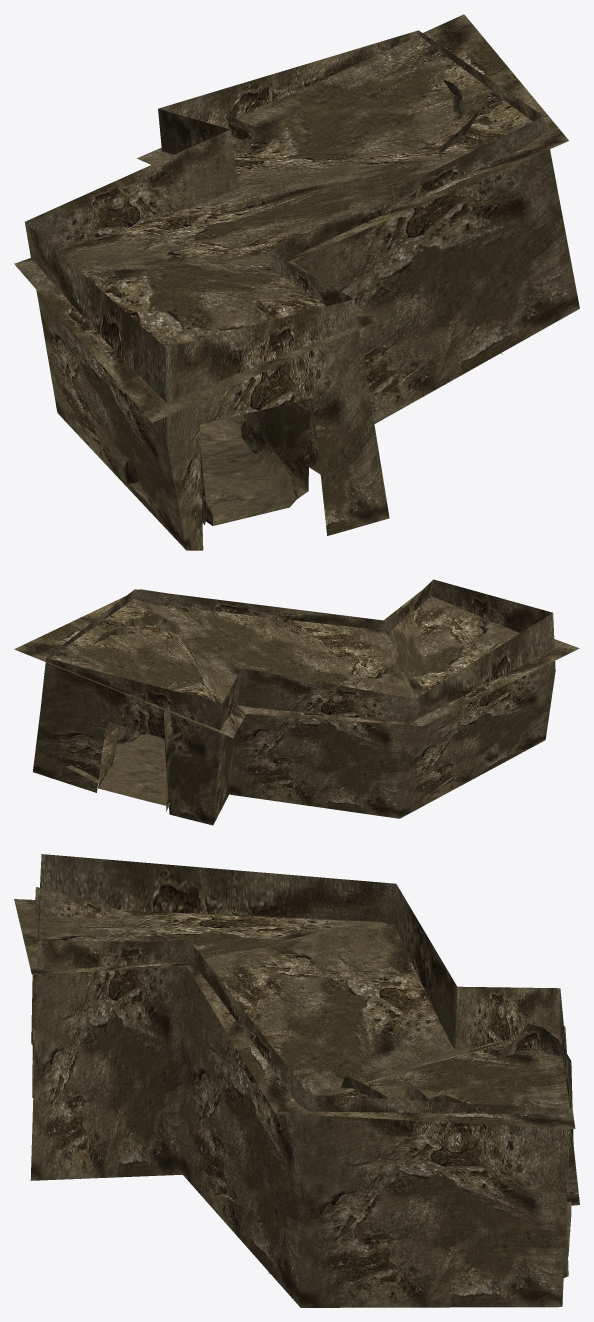
File: tunnel_volcano_left.fbx
3 renders of one model, top to bottom at view 1: azimuth 30°, elevation 25°; view 2: azimuth 150°, elevation 25°; view 3: azimuth 270°, elevation 25°, orthographic. The views are drawn at different scales.
Visible parts, largest first — view 1: BGWalls, pPlane1, tunnel_floor, Rocks_1, Rocks_103, Rocks_104; view 2: BGWalls, pPlane1, tunnel_floor, Rocks_103, Rocks_104; view 3: BGWalls, pPlane1, Rocks_17, Rocks_104, Rocks_103.
Boxes of the visible parts, x1,y1,x2,y2 form: BGWalls: [25, 30, 579, 550]; pPlane1: [14, 14, 568, 422]; tunnel_floor: [200, 367, 419, 525]; Rocks_1: [243, 399, 310, 490]; Rocks_103: [439, 79, 502, 354]; Rocks_104: [228, 103, 278, 139]; BGWalls: [33, 579, 555, 825]; pPlane1: [14, 589, 579, 737]; tunnel_floor: [66, 726, 170, 806]; Rocks_103: [60, 614, 180, 775]; Rocks_104: [163, 692, 197, 811]; BGWalls: [30, 854, 571, 1307]; pPlane1: [14, 899, 575, 1128]; Rocks_17: [31, 887, 132, 1044]; Rocks_104: [497, 1023, 579, 1205]; Rocks_103: [268, 1076, 568, 1277].
Size of the model in its own units: 18672 by 7005 by 15426.
Materials: 2 (2 with a texture image).
